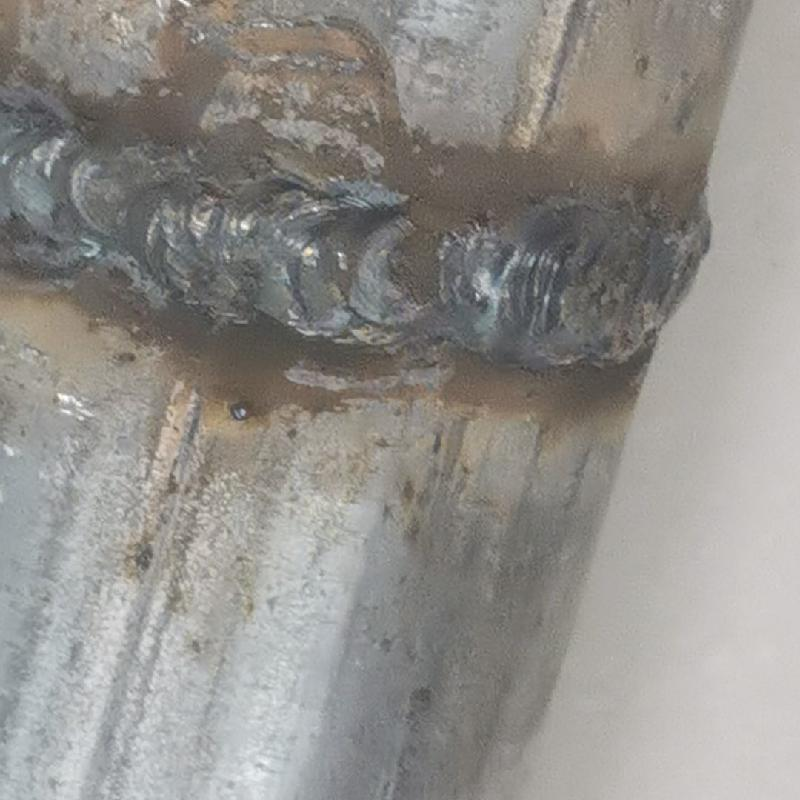good: (5, 79, 716, 374)
